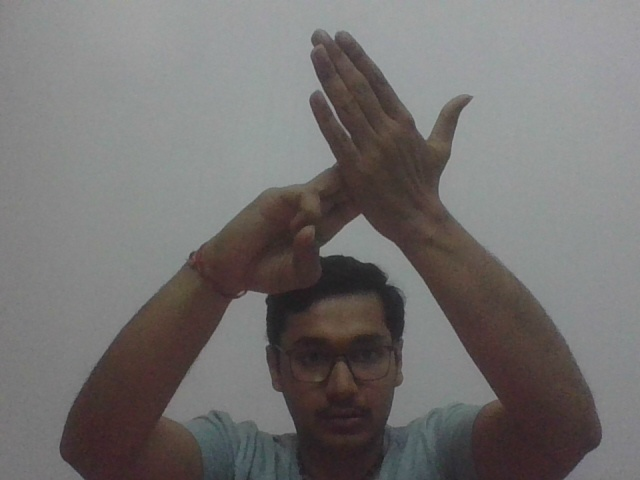M: (275, 19, 483, 252)
